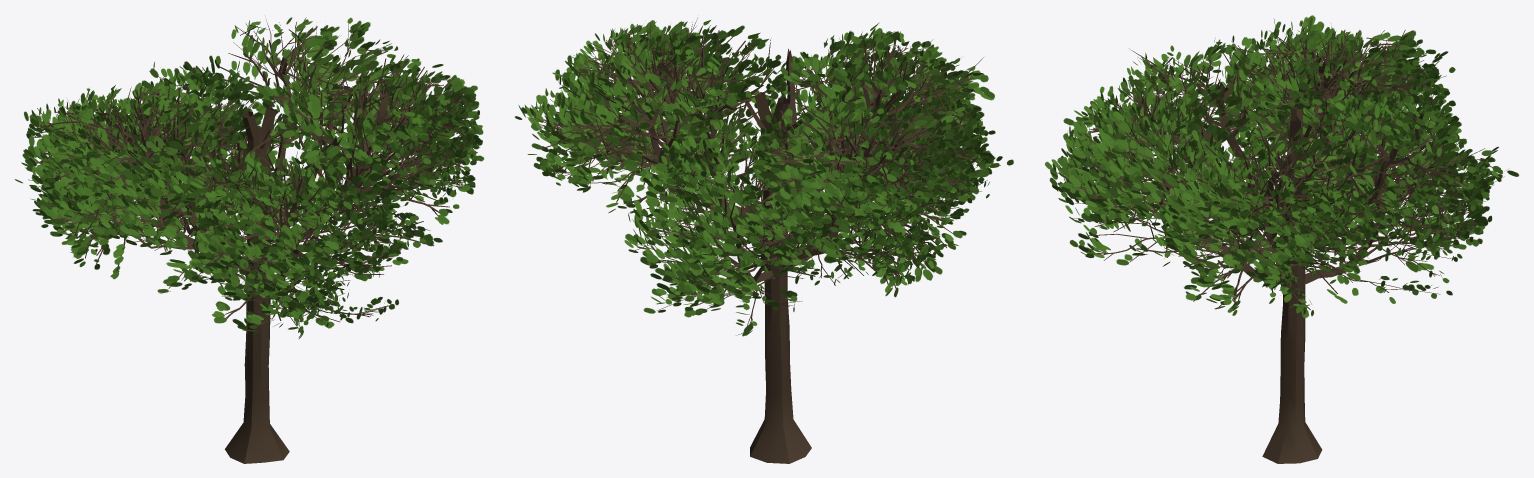
3 renders of one model, left to right at view 1: azimuth 30°, elevation 25°; view 2: azimuth 150°, elevation 25°; view 3: azimuth 270°, elevation 25°, orthographic. The views are drawn at different scales.
Visible parts, largest first — view 1: oak 01.001_trunk_Mat.001_0.118; view 2: oak 01.001_trunk_Mat.001_0.118; view 3: oak 01.001_trunk_Mat.001_0.118.
Boxes of the visible parts, x1=… form: oak 01.001_trunk_Mat.001_0.118: x1=14, y1=17, x2=483, y2=463; oak 01.001_trunk_Mat.001_0.118: x1=515, y1=18, x2=1013, y2=463; oak 01.001_trunk_Mat.001_0.118: x1=1045, y1=15, x2=1519, y2=463.
Size of the model in its own units: 5.78 by 4.54 by 5.45.
Materials: 2 (1 with a texture image).
